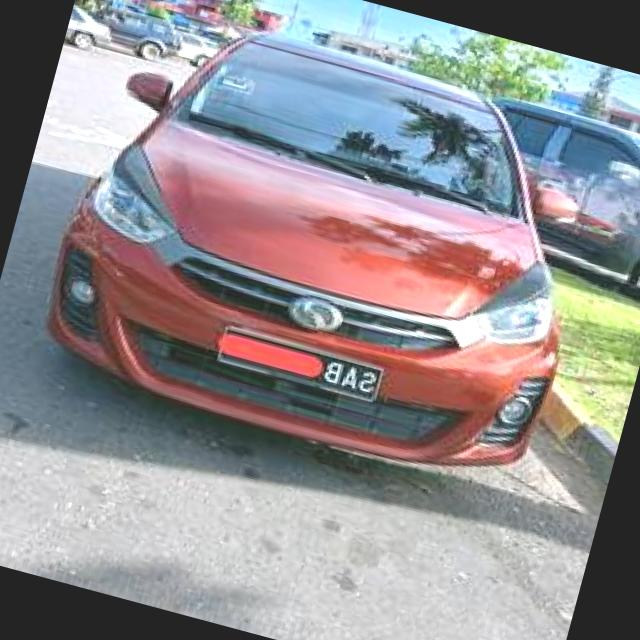PeroduaMyvi: (27, 0, 628, 502)
